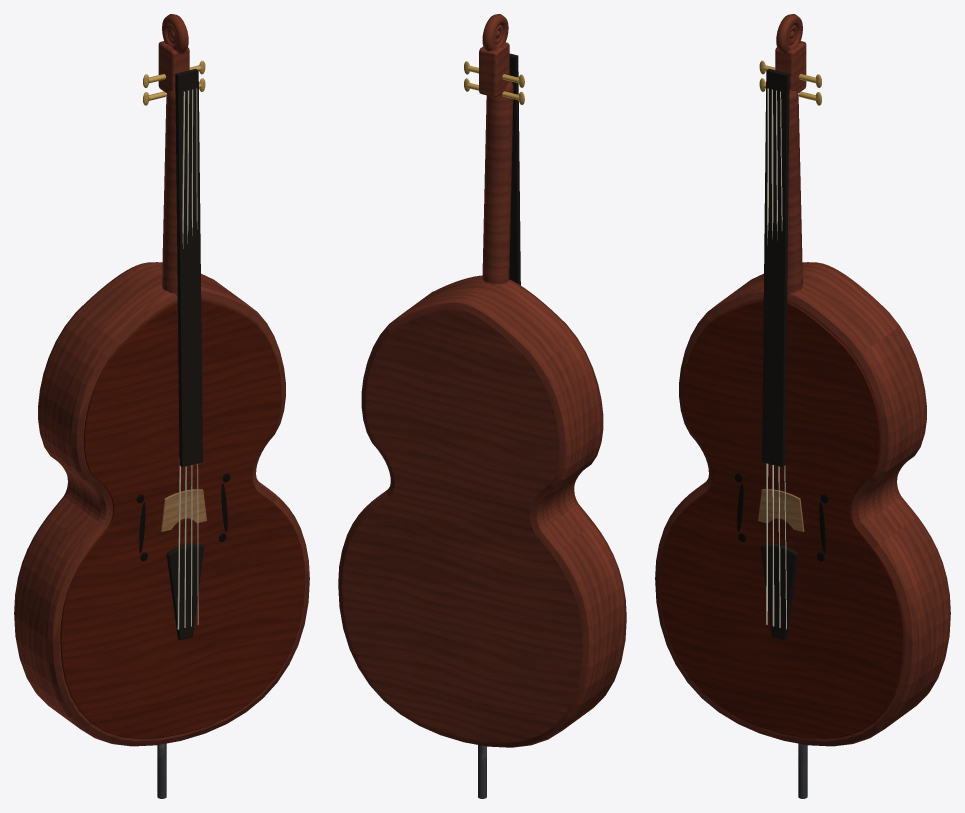
Rendered from cello.glb.
The picture shows the model from 3 angles, left to right: view 1: azimuth 30°, elevation 25°; view 2: azimuth 150°, elevation 25°; view 3: azimuth 330°, elevation 25°; orthographic projection. The views are drawn at different scales.
Visible parts, largest first — view 1: cello; view 2: cello; view 3: cello.
Boxes of the visible parts, x1=… form: cello: x1=14, y1=14, x2=309, y2=798; cello: x1=338, y1=14, x2=626, y2=798; cello: x1=655, y1=14, x2=950, y2=798.
Size of the model in its own units: 0.6366 by 1.84 by 0.2158.
Materials: 8 (5 with a texture image).
